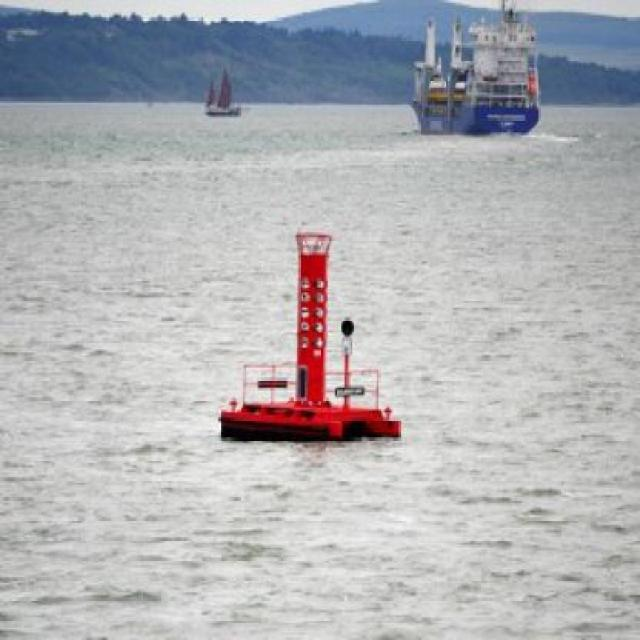buoy: (214, 216, 408, 454)
